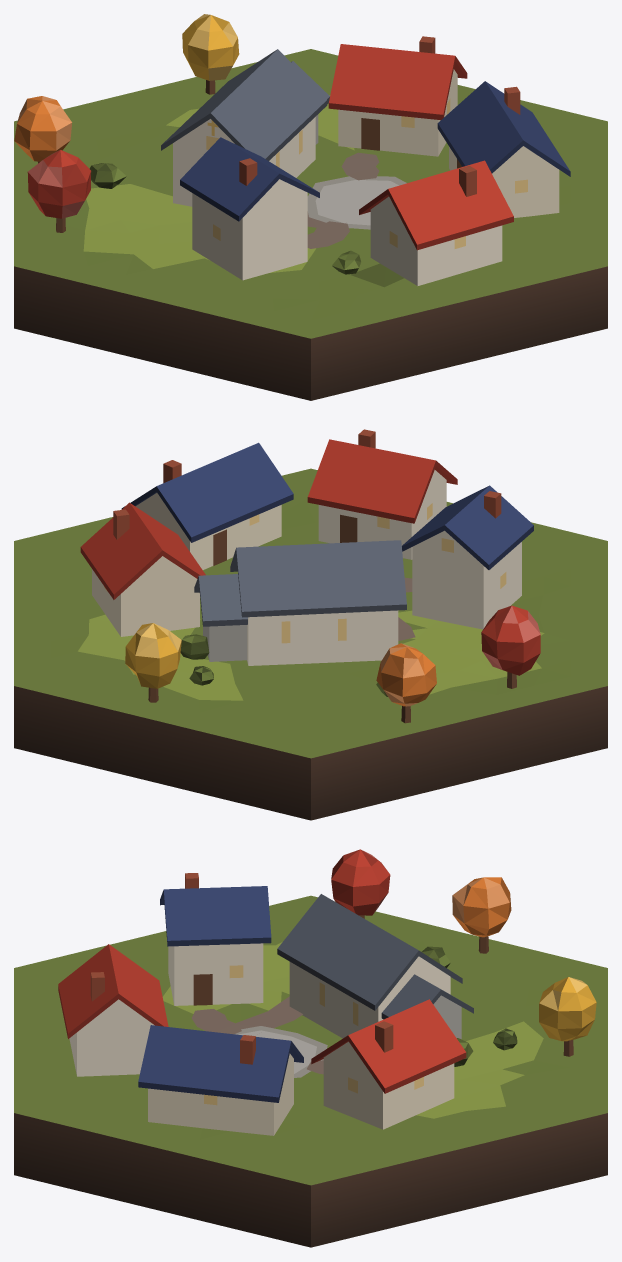
Rendered from SM_Tile_ChurchTown_B.fbx.
3 views of the same model, one above another, from view 1: azimuth 30°, elevation 25°; view 2: azimuth 150°, elevation 25°; view 3: azimuth 270°, elevation 25° (orthographic).
Visible parts, largest first — view 1: SM_Tile_ChurchTown_B; view 2: SM_Tile_ChurchTown_B; view 3: SM_Tile_ChurchTown_B.
Boxes of the visible parts, box(x1,y1,x2,y2) form: SM_Tile_ChurchTown_B: box(14, 14, 607, 400); SM_Tile_ChurchTown_B: box(14, 429, 607, 820); SM_Tile_ChurchTown_B: box(14, 849, 607, 1247).
Size of the model in its own units: 20 by 5.38 by 17.32.
